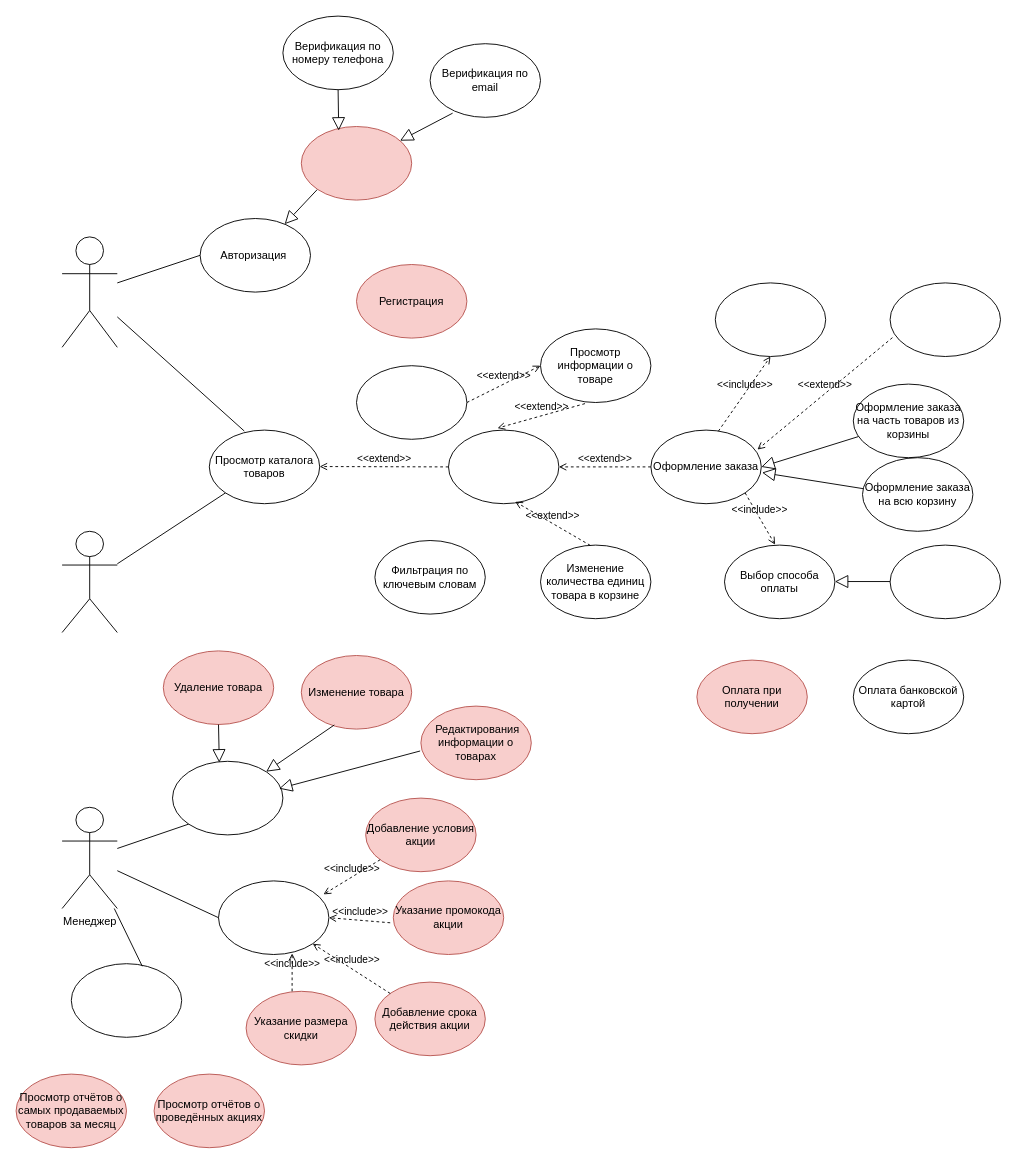
The diagram is 1017 pixels wide and 1164 high, and some of its shapes have lost their labels. Each missing label, with the centre of its shape:
"Верификация" goes at pixel 356 163.
"Гость" goes at pixel 89 291.
"Добавление товара" goes at pixel 227 797.
"Добавление товара в коризну" goes at pixel 503 466.
"Оплата картой магазина" goes at pixel 944 581.
"Покупатель" goes at pixel 89 581.
"Применение скидки" goes at pixel 944 319.
"Просмотр отчётов" goes at pixel 126 1000.
"Просмотр списка отзывов" goes at pixel 411 402.
"Создание новых акций" goes at pixel 273 917.
"Указание адреса доставки" goes at pixel 770 319.
